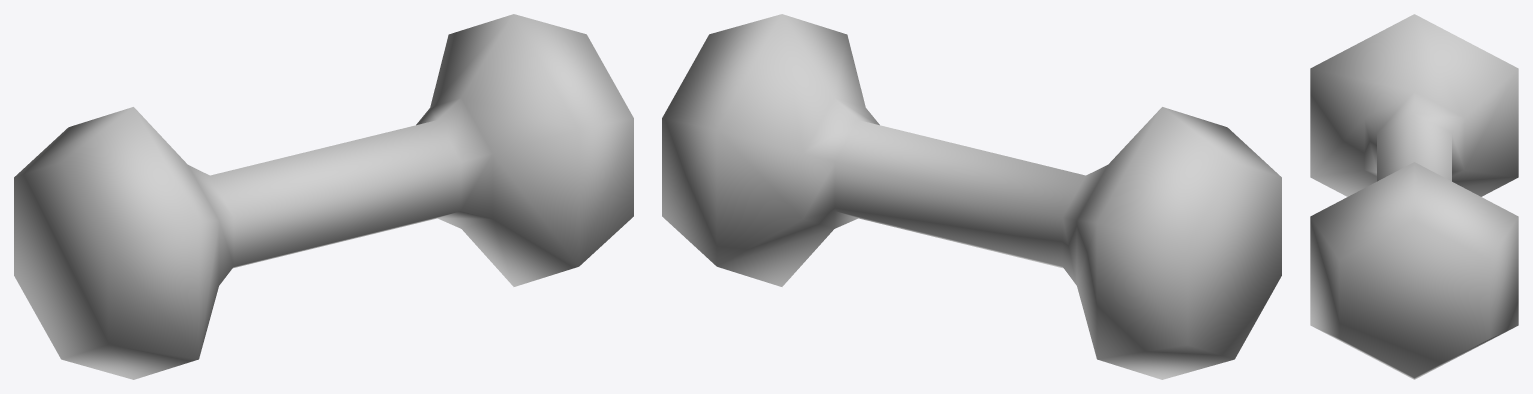
The model's file is Weight_02.FBX.
3 renders of one model, left to right at view 1: azimuth 30°, elevation 25°; view 2: azimuth 150°, elevation 25°; view 3: azimuth 270°, elevation 25°, orthographic. The views are drawn at different scales.
Visible parts, largest first — view 1: Weight; view 2: Weight; view 3: Weight.
Part boxes in pixels (bbox=[...]): Weight: bbox=[14, 14, 633, 379]; Weight: bbox=[662, 14, 1281, 379]; Weight: bbox=[1310, 14, 1518, 379].
Bounding box in the file's own units: 78.32 × 38.91 × 33.69.
